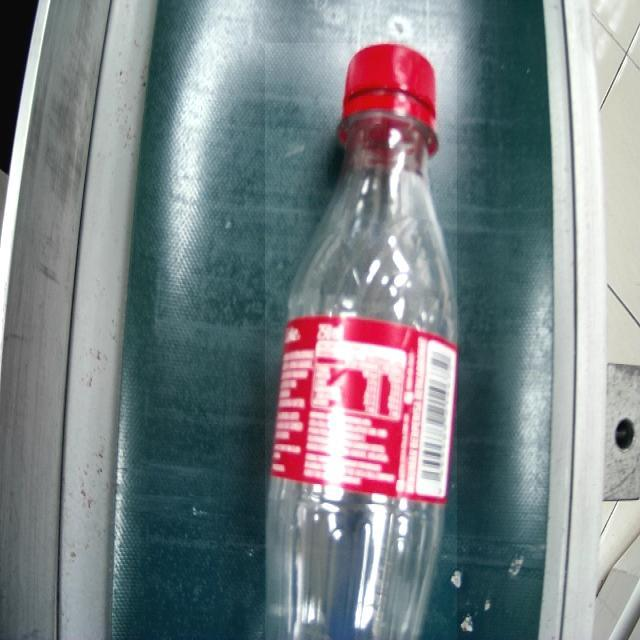Pet_Bottle: (265, 43, 457, 640)
